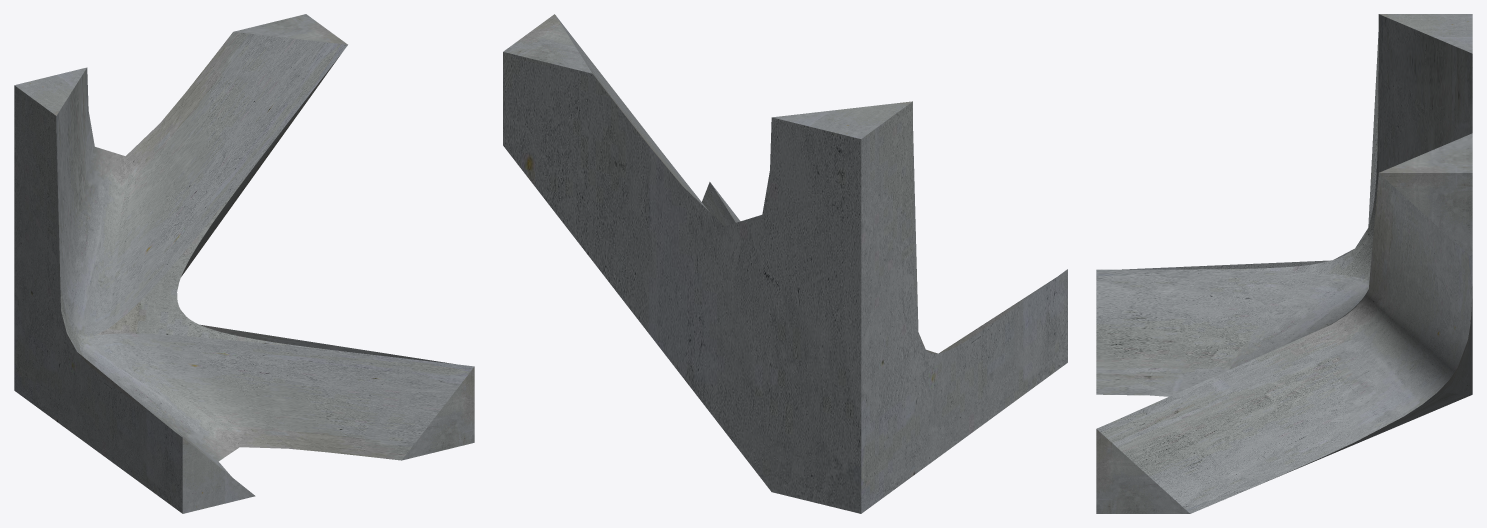
The model's file is module_O3.fbx.
3 renders of one model, left to right at view 1: azimuth 30°, elevation 25°; view 2: azimuth 150°, elevation 25°; view 3: azimuth 270°, elevation 25°, orthographic. The views are drawn at different scales.
Visible parts, largest first — view 1: modules; view 2: modules; view 3: modules.
Boxes of the visible parts, <box> form: modules: <box>14,14,474,513</box>; modules: <box>503,14,1067,513</box>; modules: <box>1096,14,1472,513</box>.
Bounding box in the file's own units: 1000 × 1000 × 1000.
1 material, 1 textured.
